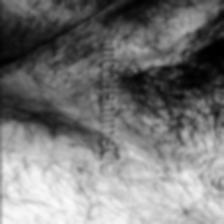Toxin: (4, 25, 26, 57), (44, 0, 74, 12)
